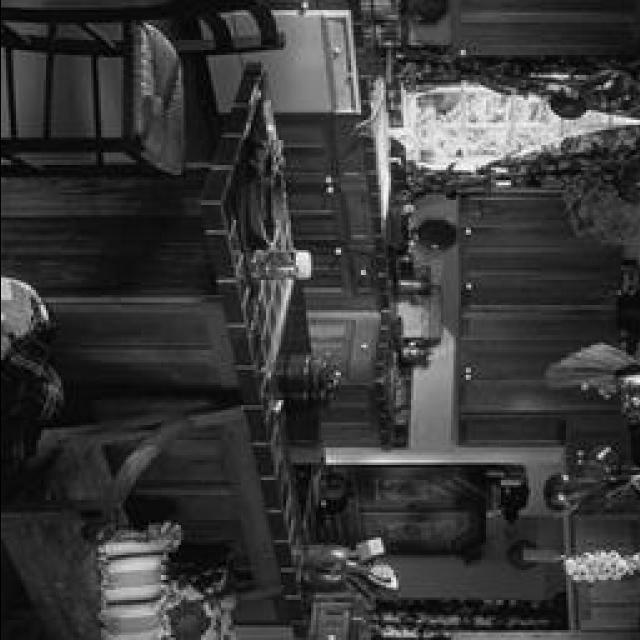chair: (2, 0, 286, 183)
